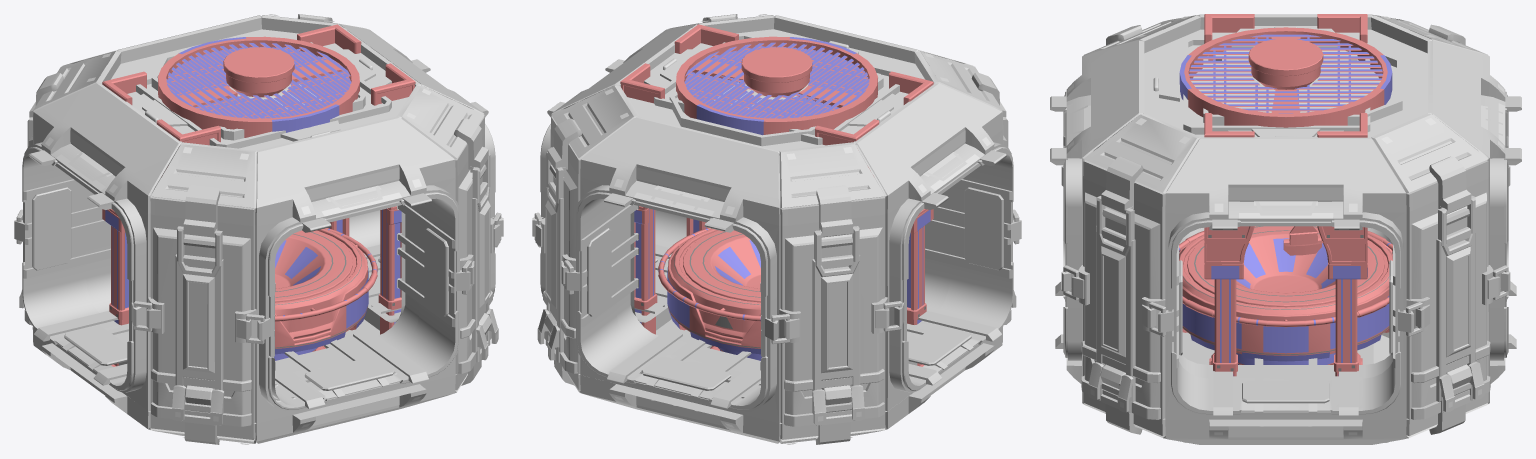
Rendered from MiniDispenser0.3.fbx.
3 views of the same model, side by side, from view 1: azimuth 30°, elevation 25°; view 2: azimuth 150°, elevation 25°; view 3: azimuth 270°, elevation 25° (orthographic). The views are drawn at different scales.
Parts seen in each view (by area): view 1: SM_SmartSplitter, Mam_static, SM_ProgrammableSplitter_01; view 2: SM_SmartSplitter, Mam_static, SM_ProgrammableSplitter_01; view 3: SM_SmartSplitter, Mam_static, SM_ProgrammableSplitter_01.
Part boxes in pixels (x1,y1,x2,y2): SM_SmartSplitter: (14, 14, 503, 444); Mam_static: (102, 24, 415, 366); SM_ProgrammableSplitter_01: (96, 15, 421, 163); SM_SmartSplitter: (532, 14, 1021, 444); Mam_static: (620, 24, 933, 366); SM_ProgrammableSplitter_01: (614, 15, 939, 163); SM_SmartSplitter: (1050, 14, 1521, 444); Mam_static: (1179, 14, 1392, 376); SM_ProgrammableSplitter_01: (1139, 15, 1432, 140).
Size of the model in its own units: 413 by 322 by 413.
